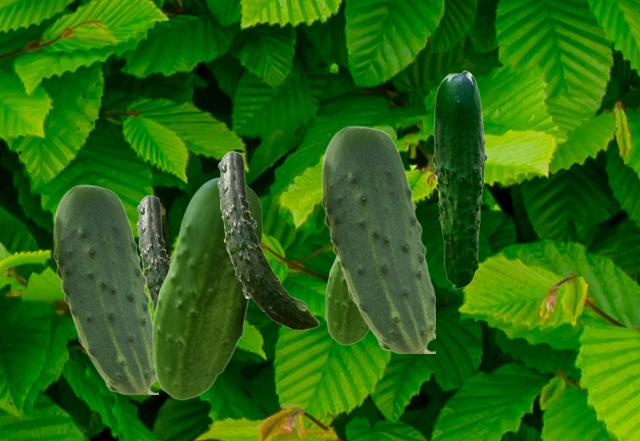cucumber: (321, 125, 434, 352), (152, 177, 261, 399), (53, 184, 157, 393), (217, 151, 318, 329), (432, 70, 486, 288), (325, 256, 369, 344), (136, 195, 169, 310)
